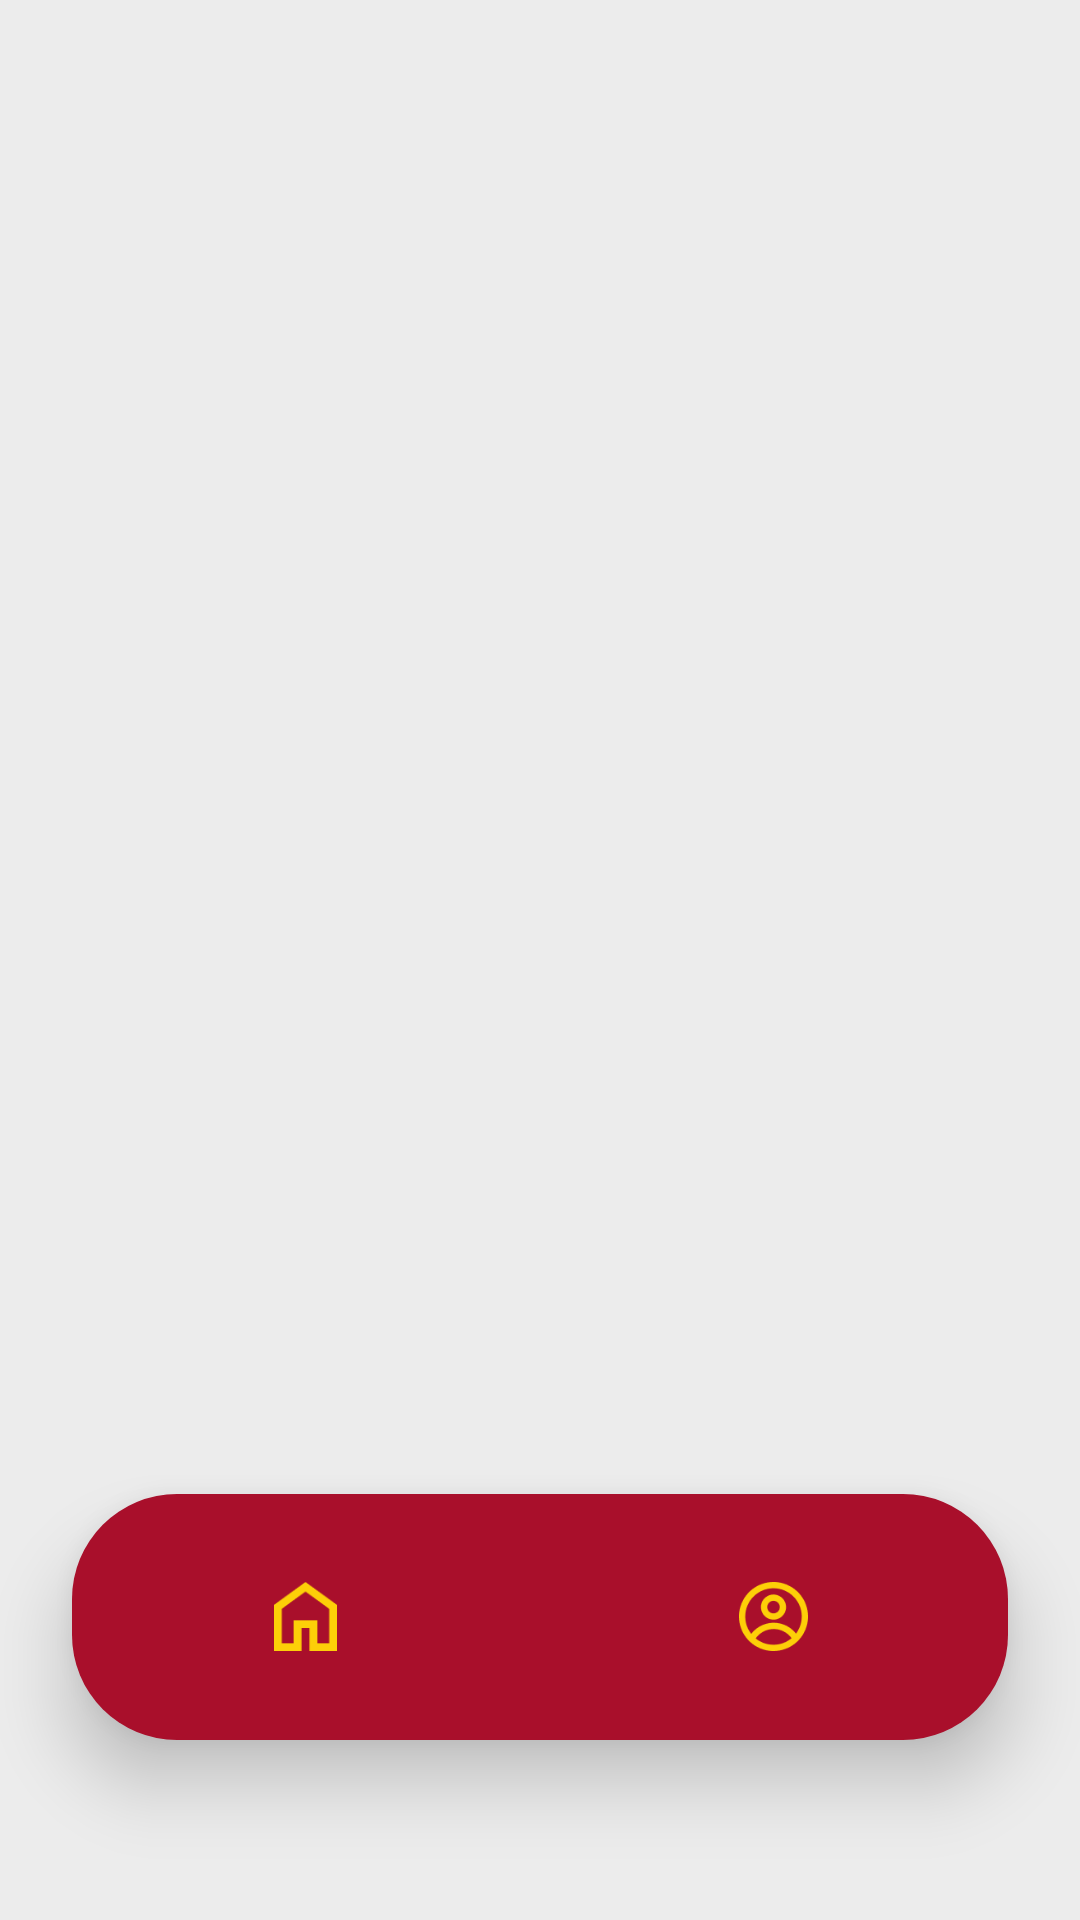

Locate icon controls on the screen. Image size 1080 × 1920, boxes as detection(x1, y1, x2, y2).
home: detection(274, 1582, 337, 1651)
profile: detection(739, 1582, 808, 1651)
